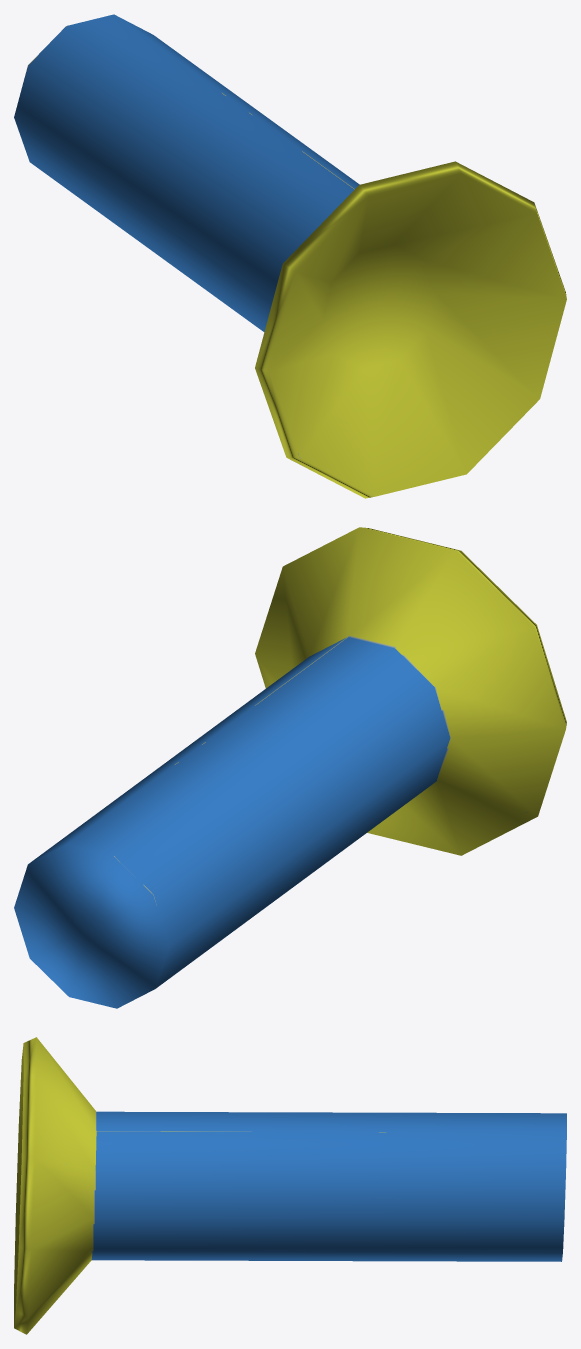
The model's file is Bullet.fbx.
The picture shows the model from 3 angles, top to bottom: view 1: azimuth 30°, elevation 25°; view 2: azimuth 150°, elevation 25°; view 3: azimuth 270°, elevation 25°; orthographic projection. The views are drawn at different scales.
Parts seen in each view (by area): view 1: Bullet; view 2: Bullet; view 3: Bullet.
Part boxes in pixels (box(x1,y1,x2,y2)): Bullet: box(14, 14, 566, 498); Bullet: box(14, 527, 566, 1008); Bullet: box(14, 1037, 566, 1334).
Bounding box in the file's own units: 1.52 × 1.44 × 2.8.
1 material, 1 textured.
